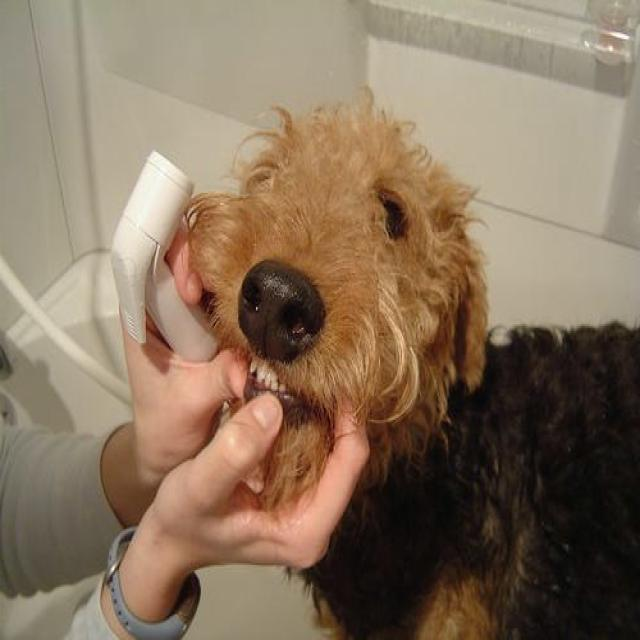airedale: (183, 84, 640, 638)
